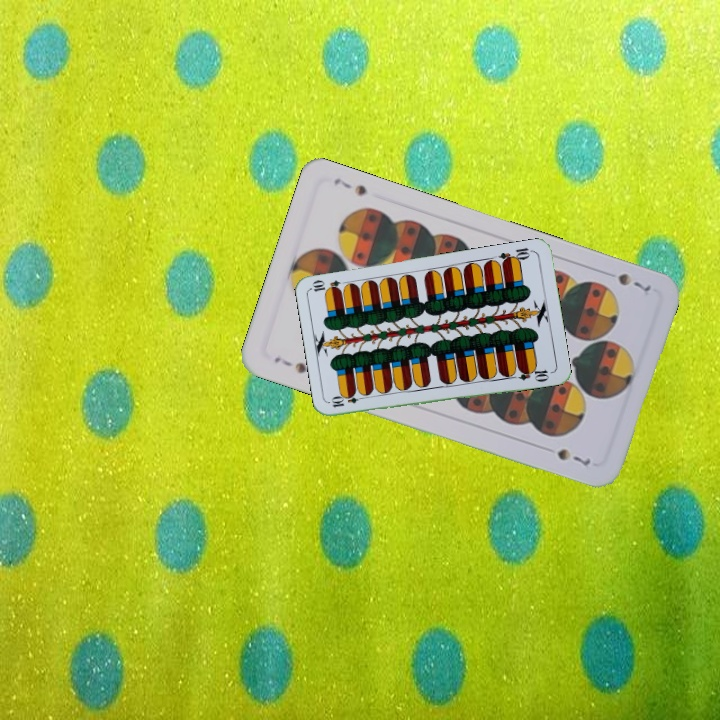E10: (495, 244, 536, 267), (327, 391, 368, 410)
S7: (613, 269, 654, 298), (270, 352, 309, 377)
